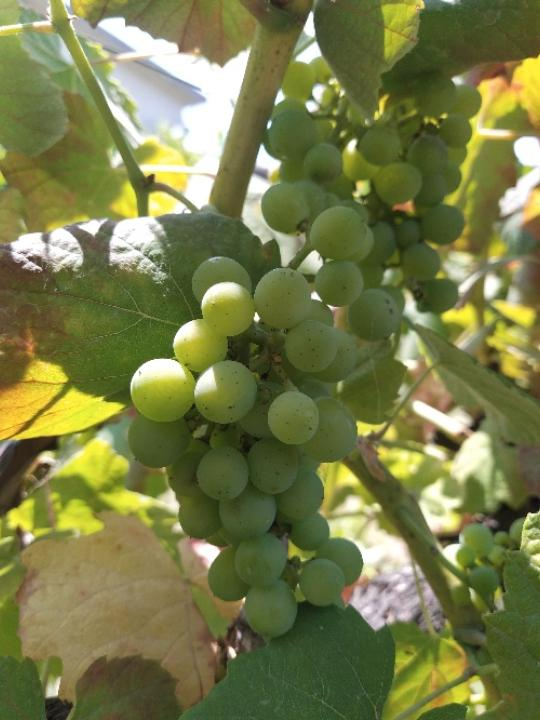grape: (126, 205, 403, 642)
